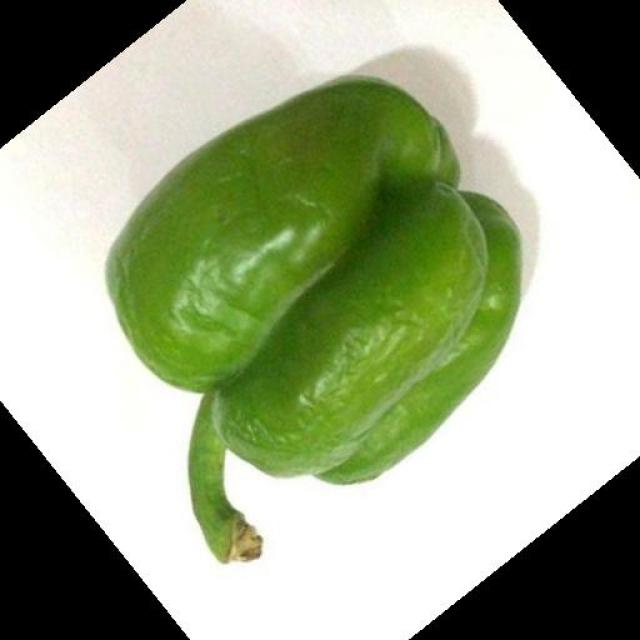Fresh_Capsicum: (89, 70, 524, 542)
